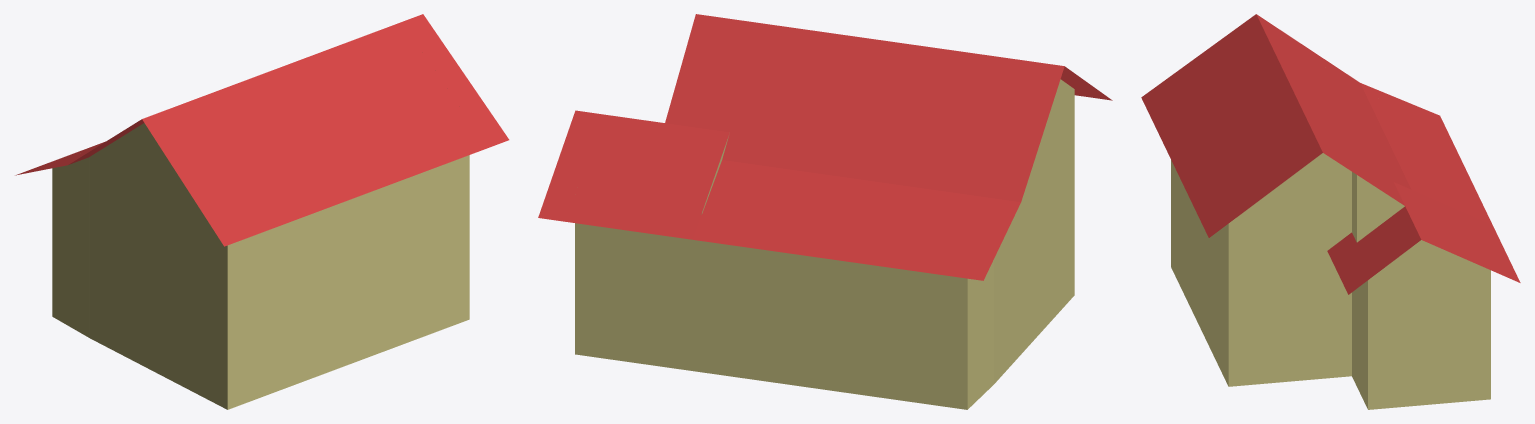
3 views of the same model, side by side, from view 1: azimuth 30°, elevation 25°; view 2: azimuth 150°, elevation 25°; view 3: azimuth 270°, elevation 25° (orthographic). The views are drawn at different scales.
Bounding box in the file's own units: 25.72 × 22.62 × 15.57.
